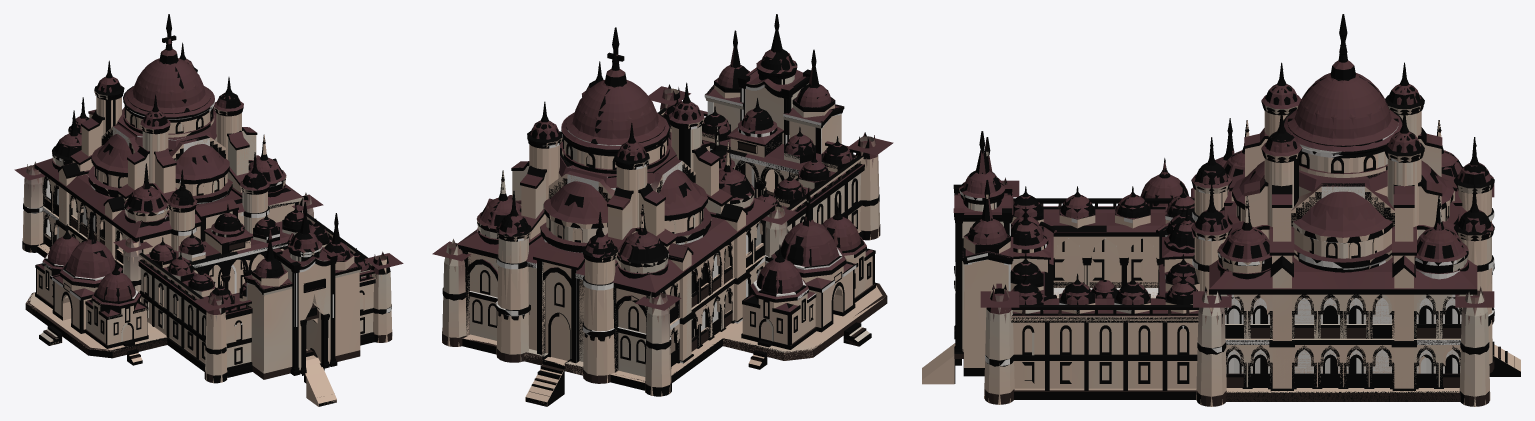
The model's file is hagia_sophia.glb.
The picture shows the model from 3 angles, left to right: view 1: azimuth 30°, elevation 25°; view 2: azimuth 150°, elevation 25°; view 3: azimuth 270°, elevation 25°; orthographic projection. The views are drawn at different scales.
Visible parts, largest first — view 1: HagiaSophiaAlt; view 2: HagiaSophiaAlt; view 3: HagiaSophiaAlt.
Boxes of the visible parts, x1,y1,x2,y2 form: HagiaSophiaAlt: [14, 14, 403, 406]; HagiaSophiaAlt: [432, 14, 893, 406]; HagiaSophiaAlt: [922, 14, 1520, 406].
Bounding box in the file's own units: 18.77 × 18.5 × 27.6.
Materials: 1 (1 with a texture image).
